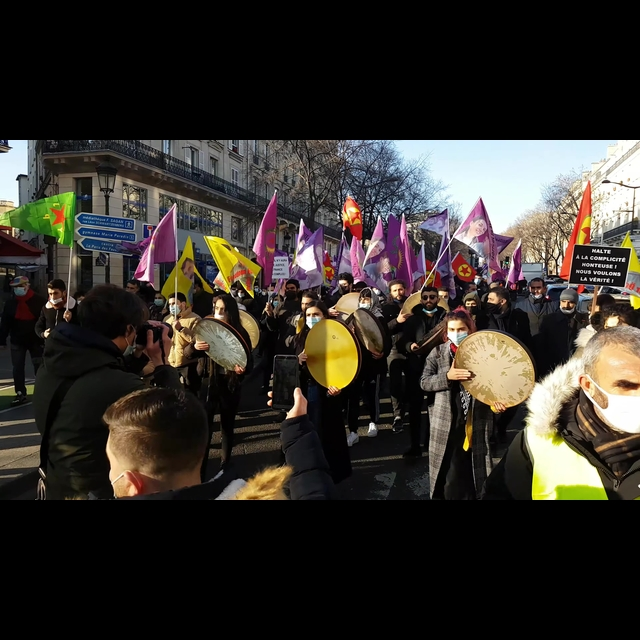PKK: (457, 263, 472, 278), (324, 265, 334, 278)
